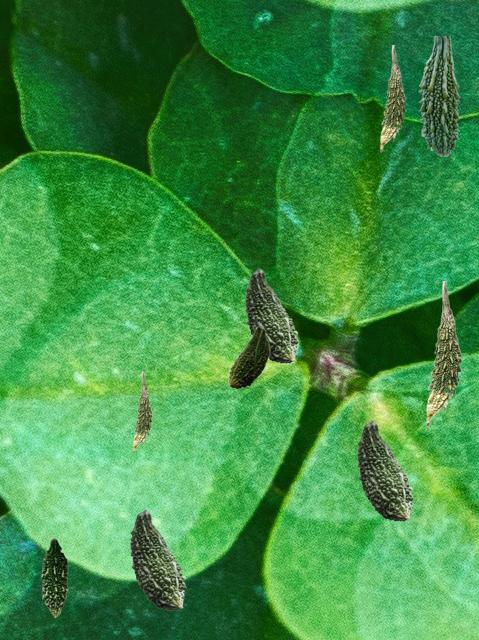ampalaya: (357, 420, 412, 520), (130, 509, 185, 609), (426, 281, 461, 426), (245, 268, 297, 362), (418, 36, 459, 155), (380, 45, 405, 151), (228, 326, 269, 388), (41, 536, 69, 617), (133, 371, 151, 452)
